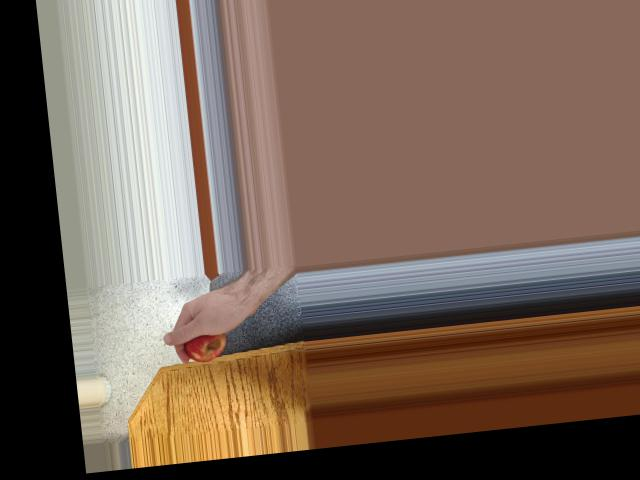apple: (179, 317, 231, 366)
